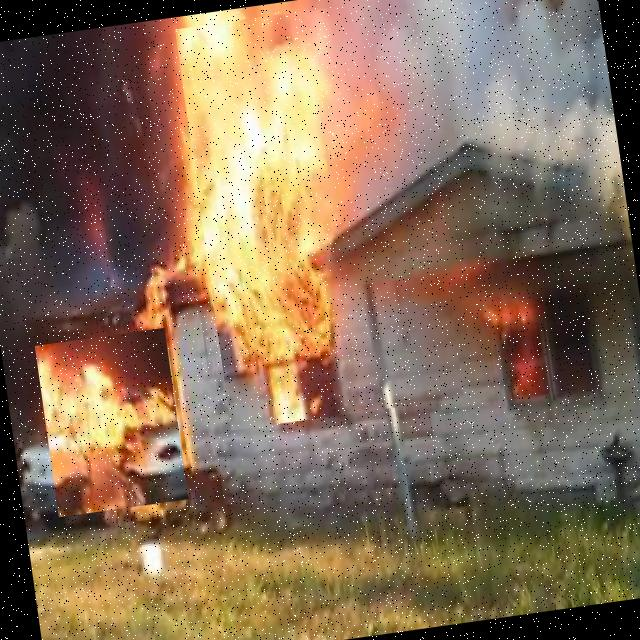fire: (175, 0, 469, 430), (34, 328, 188, 518), (448, 258, 618, 406)
